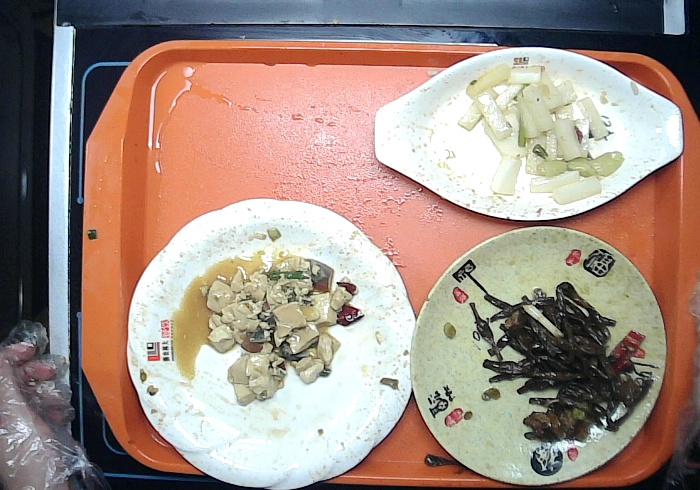NLDX-Bai_Zhe_Yuan_Pan: (122, 188, 421, 490)
NLDX-Fu_Zi_Yuan_Pan: (406, 223, 670, 488)
NLDX-Yu_Pan: (369, 42, 689, 228)
